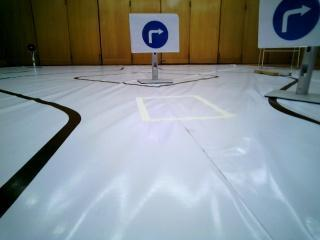right: (261, 4, 318, 46), (129, 12, 182, 52)
